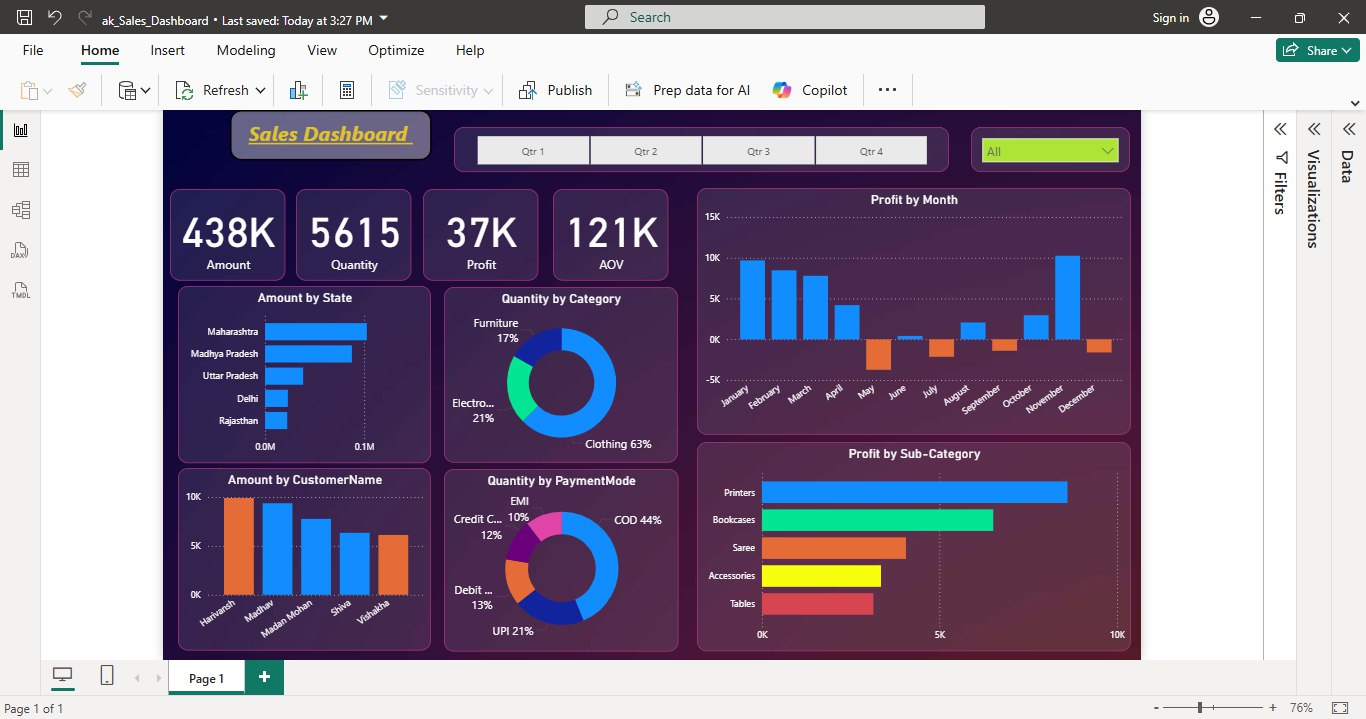

Layout of this report page (visuals, bound fields, positions):
{"tool":"powerbi","page":{"name":"Page 1","canvas":[1280,720],"ordinal":0},"visuals":[{"type":"textbox","box":[87.3,0,263.7,65.5],"z":0},{"type":"columnChart","fields":{"Category":["Orders.Order Date.Variation.Date Hierarchy.Month"],"Y":["Sum(Details.Profit)"]},"box":[698.8,102.5,567.8,322.5],"z":1000},{"type":"barChart","fields":{"Category":["Details.Sub-Category"],"Y":["Sum(Details.Profit)"]},"box":[698.8,435.1,567.8,273.8],"z":2000},{"type":"donutChart","fields":{"Category":["Details.Category"],"Y":["Sum(Details.Quantity)"]},"box":[367.9,231.8,305.7,230.1],"z":3000},{"type":"donutChart","fields":{"Y":["Sum(Details.Quantity)"],"Category":["Details.PaymentMode"]},"box":[367.2,469.4,306.7,239],"z":4000},{"type":"card","fields":{"Values":["Sum(Details.Amount)"]},"box":[9.5,103.1,151.2,119.5],"z":5000},{"type":"card","fields":{"Values":["Sum(Details.Quantity)"]},"box":[173.7,103.1,151.2,119.5],"z":6000},{"type":"card","fields":{"Values":["Sum(Details.Profit)"]},"box":[340.7,103.1,151.2,119.5],"z":7000},{"type":"card","fields":{"Values":["Sum(Details.AOV)"]},"box":[510.7,103.1,151.2,119.5],"z":8000},{"type":"barChart","fields":{"Y":["Sum(Details.Amount)"],"Category":["Orders.State"]},"box":[20.2,230.1,330.9,231.8],"z":9000},{"type":"columnChart","fields":{"Category":["Orders.CustomerName"],"Y":["Sum(Details.Amount)"]},"box":[20,469,331,239],"z":10000},{"type":"slicer","fields":{"Values":["Orders.Order Date.Variation.Date Hierarchy.Quarter"]},"box":[381.3,21.8,648.4,58.8],"z":11000},{"type":"slicer","fields":{"Values":["Orders.State"]},"box":[1058.3,21.8,208.3,58.8],"z":12000}]}

Visuals, with their boxes on the page's 1280x720 design canvas (x1, y1, x2, y2). These are canvas units, not pixel positions in the 1366x719 screenshot, which may show the page scaled, cropped or inside an application window:
textbox: <region>87, 0, 351, 66</region>
columnChart - Orders.Order Date.Variation.Date Hierarchy.Month x Sum(Details.Profit): <region>699, 102, 1267, 425</region>
barChart - Details.Sub-Category x Sum(Details.Profit): <region>699, 435, 1267, 709</region>
donutChart - Details.Category x Sum(Details.Quantity): <region>368, 232, 674, 462</region>
donutChart - Sum(Details.Quantity) x Details.PaymentMode: <region>367, 469, 674, 708</region>
card - Sum(Details.Amount): <region>10, 103, 161, 223</region>
card - Sum(Details.Quantity): <region>174, 103, 325, 223</region>
card - Sum(Details.Profit): <region>341, 103, 492, 223</region>
card - Sum(Details.AOV): <region>511, 103, 662, 223</region>
barChart - Sum(Details.Amount) x Orders.State: <region>20, 230, 351, 462</region>
columnChart - Orders.CustomerName x Sum(Details.Amount): <region>20, 469, 351, 708</region>
slicer - Orders.Order Date.Variation.Date Hierarchy.Quarter: <region>381, 22, 1030, 81</region>
slicer - Orders.State: <region>1058, 22, 1267, 81</region>
